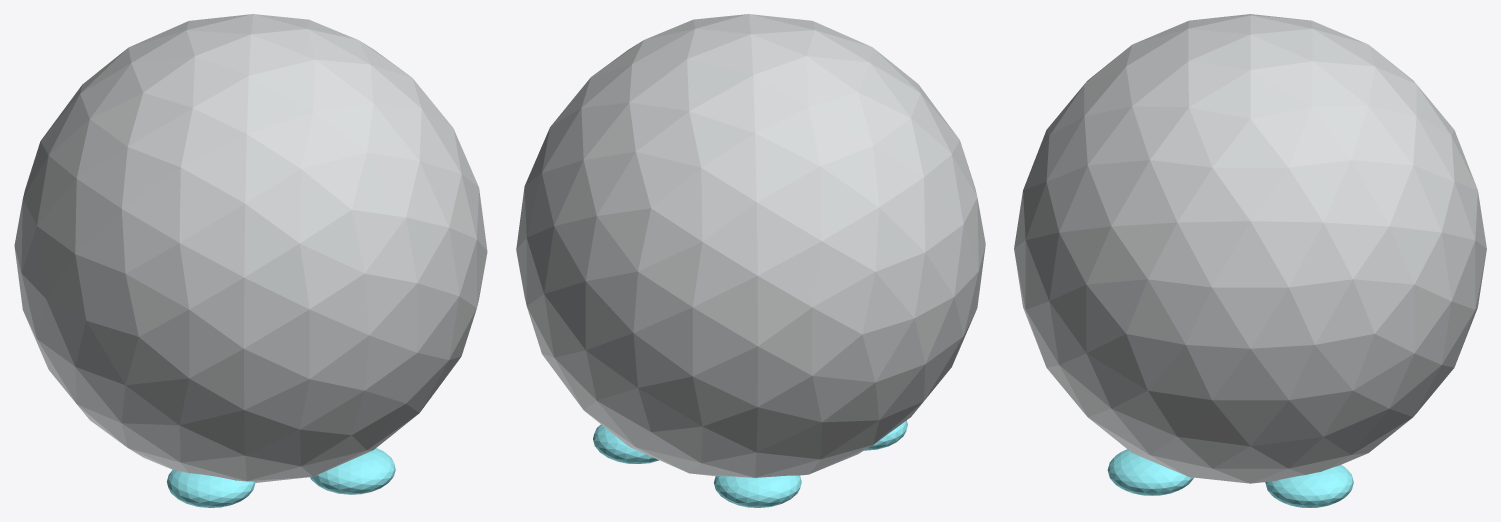
Rendered from freeze_snowball.glb.
The picture shows the model from 3 angles, left to right: view 1: azimuth 30°, elevation 25°; view 2: azimuth 150°, elevation 25°; view 3: azimuth 270°, elevation 25°; orthographic projection.
Parts seen in each view (by area): view 1: white, cyan_1, cyan; view 2: white, cyan_3, cyan_2; view 3: white, cyan_2, cyan_1.
Part boxes in pixels (left/top/right/bottom): white: left=14, top=14, right=487, bottom=482; cyan_1: left=310, top=448, right=395, bottom=494; cyan: left=167, top=469, right=255, bottom=507; white: left=516, top=14, right=985, bottom=477; cyan_3: left=714, top=475, right=801, bottom=507; cyan_2: left=593, top=424, right=658, bottom=463; white: left=1014, top=14, right=1486, bottom=483; cyan_2: left=1265, top=465, right=1353, bottom=507; cyan_1: left=1107, top=449, right=1193, bottom=495.
Bounding box in the file's own units: 0.96 × 0.96 × 0.96.
